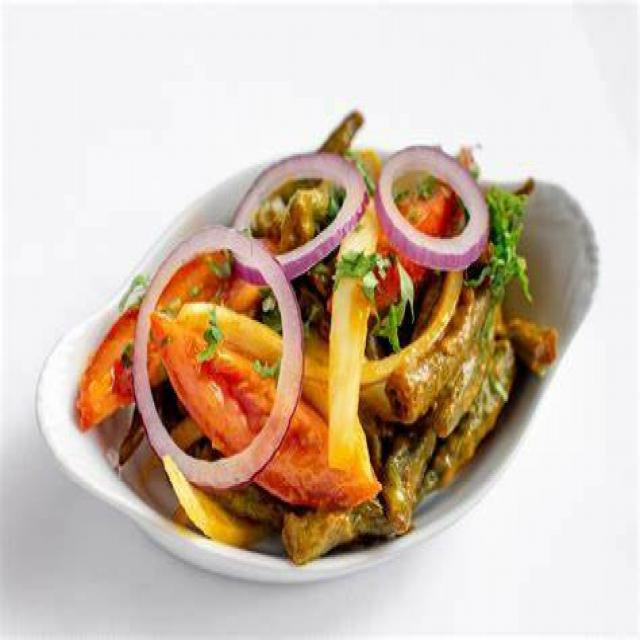BhindiMasala: (75, 109, 557, 565)
